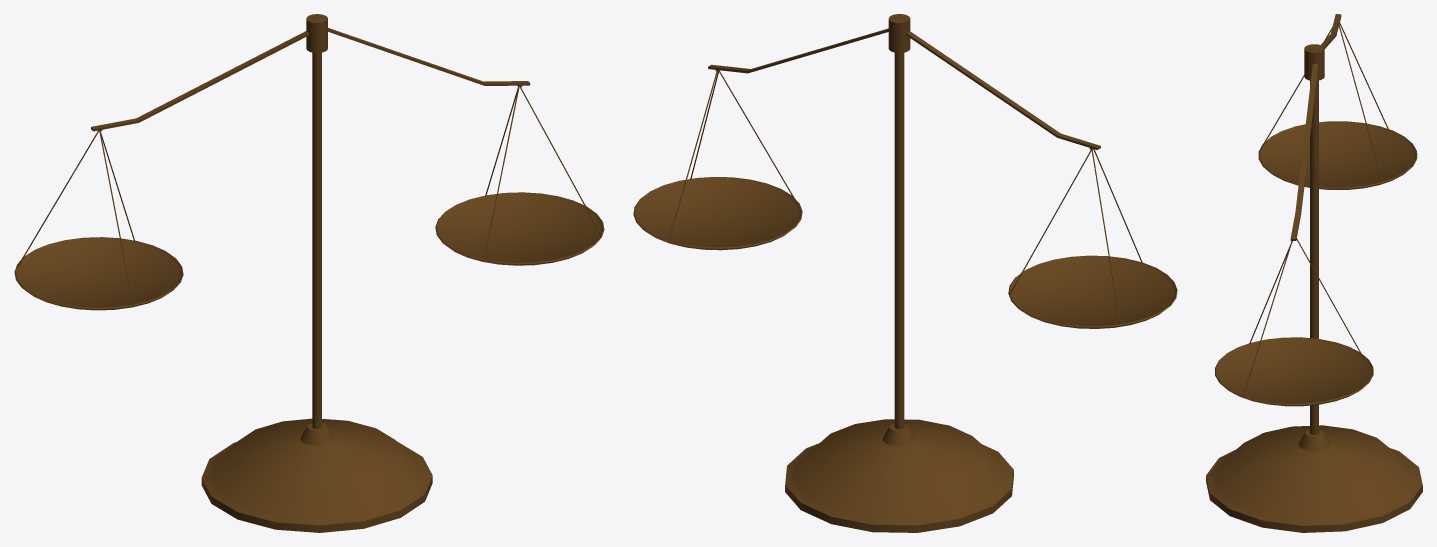
The model's file is Scale.fbx.
The picture shows the model from 3 angles, left to right: view 1: azimuth 30°, elevation 25°; view 2: azimuth 150°, elevation 25°; view 3: azimuth 270°, elevation 25°; orthographic projection. The views are drawn at different scales.
Parts seen in each view (by area): view 1: Line013; view 2: Line013; view 3: Line013.
Part boxes in pixels (<box>): Line013: <box>14,14,604,532</box>; Line013: <box>633,14,1177,532</box>; Line013: <box>1206,14,1422,532</box>.
Bounding box in the file's own units: 51.46 × 42.12 × 18.85.
